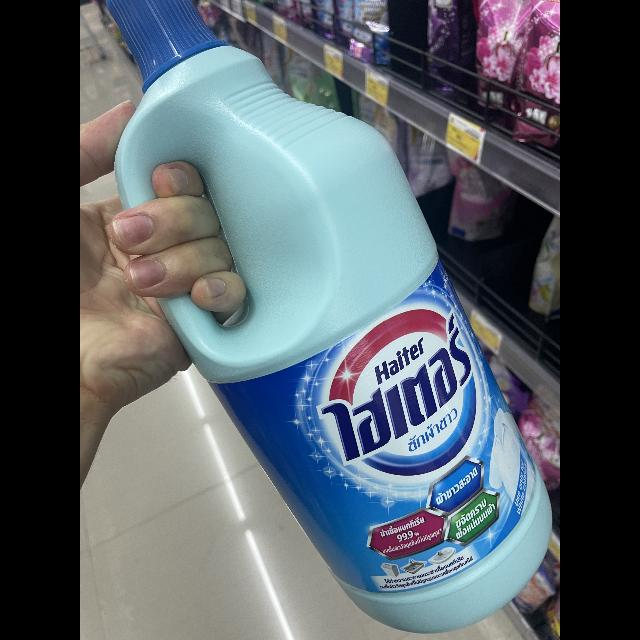chemical_plastic_bottle: (98, 0, 552, 634)
